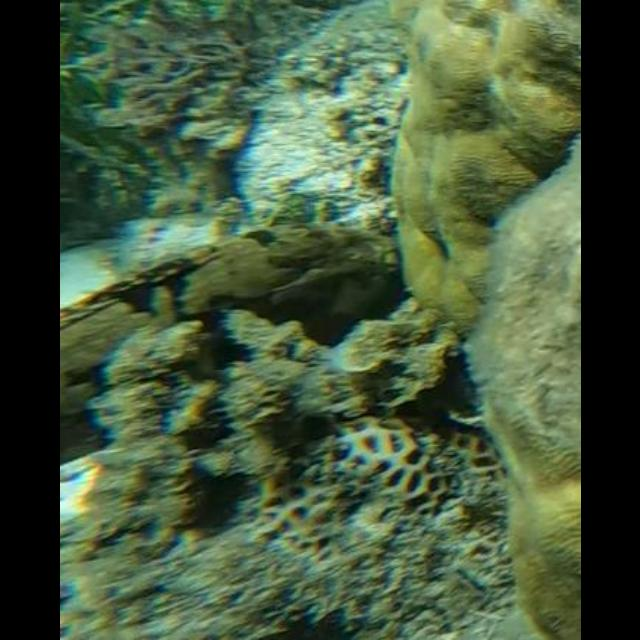Groupers: (59, 225, 408, 473)
